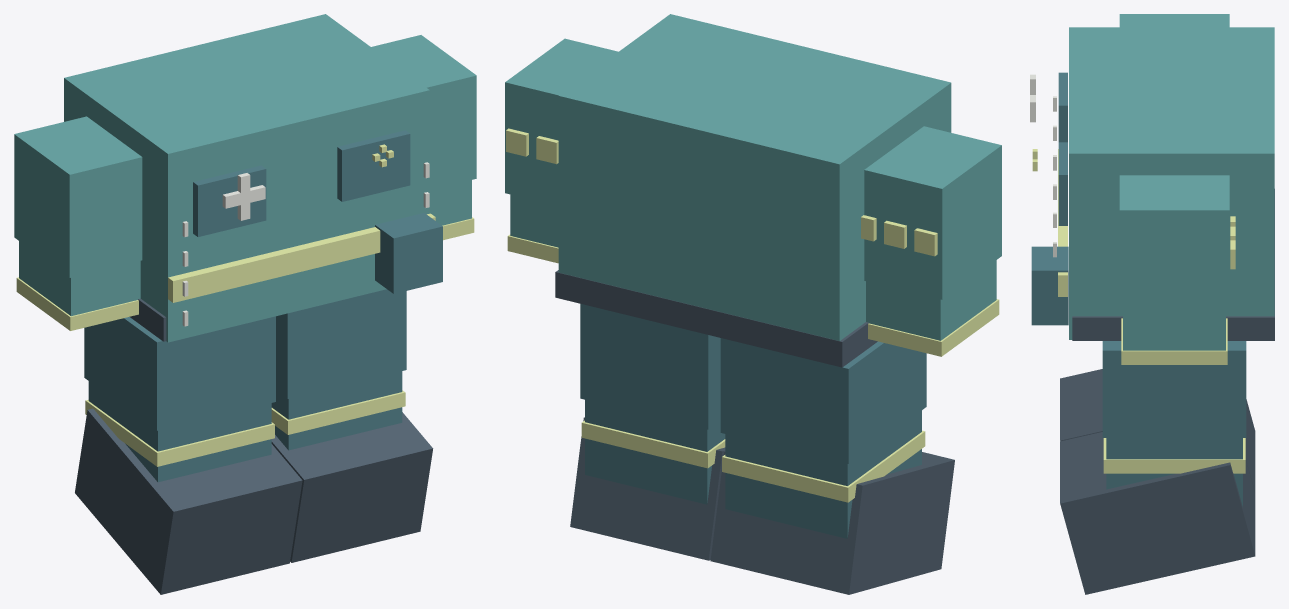
File: paramedic-teal.glb
3 renders of one model, left to right at view 1: azimuth 30°, elevation 25°; view 2: azimuth 150°, elevation 25°; view 3: azimuth 270°, elevation 25°, orthographic. The views are drawn at different scales.
Visible parts, largest first — view 1: jacket, shoe-Right, upper-sleeve-Right, trouser-Right, shoe-Left, trouser-Left, upper-sleeve-Left, lower-trouser-Right, reflective-band, lower-trouser-Left, lower-sleeve-Right, medical-pouch (+8 smaller); view 2: jacket, trouser-Right, shoe-Right, upper-sleeve-Right, trouser-Left, lower-trouser-Right, shoe-Left, medical-belt, upper-sleeve-Left, lower-trouser-Left, lower-sleeve-Right, reflective-leg-Right (+4 smaller); view 3: jacket, shoe-Left, upper-sleeve-Left, trouser-Left, lower-sleeve-Left, lower-trouser-Left, shoe-Right, medical-pouch, medical-belt, reflective-leg-Left, cuff-Left, upper-sleeve-Right (+3 smaller).
Part boxes in pixels (x1,y1,x2,y2): jacket: (64, 14, 429, 342); shoe-Right: (75, 408, 302, 594); upper-sleeve-Right: (14, 116, 142, 277); trouser-Right: (84, 316, 275, 430); shoe-Left: (271, 412, 433, 562); trouser-Left: (276, 289, 406, 398); upper-sleeve-Left: (371, 35, 476, 189); lower-trouser-Right: (88, 381, 271, 482); reflective-band: (168, 213, 435, 302); lower-trouser-Left: (271, 371, 402, 450); lower-sleeve-Right: (19, 241, 140, 316); medical-pouch: (375, 213, 442, 293); jacket: (558, 14, 951, 340); trouser-Right: (720, 338, 926, 463); shoe-Right: (710, 451, 954, 594); upper-sleeve-Right: (864, 126, 1001, 299); trouser-Left: (580, 304, 720, 429); lower-trouser-Right: (725, 410, 921, 538); shoe-Left: (570, 417, 725, 560); medical-belt: (555, 270, 877, 367); upper-sleeve-Left: (505, 38, 618, 205); lower-trouser-Left: (585, 400, 725, 504); lower-sleeve-Right: (866, 260, 996, 340); reflective-leg-Right: (722, 430, 925, 502); jacket: (1069, 27, 1274, 339); shoe-Left: (1060, 432, 1255, 594); upper-sleeve-Left: (1119, 175, 1229, 312); trouser-Left: (1102, 341, 1246, 437); lower-sleeve-Left: (1123, 312, 1225, 350); lower-trouser-Left: (1106, 438, 1242, 506); shoe-Right: (1060, 369, 1255, 492); medical-pouch: (1031, 246, 1068, 325); medical-belt: (1072, 189, 1274, 340); reflective-leg-Left: (1103, 438, 1245, 473); cuff-Left: (1121, 318, 1227, 364); upper-sleeve-Right: (1119, 14, 1229, 27).
Size of the model in its own units: 1.07 by 1.13 by 0.566.
